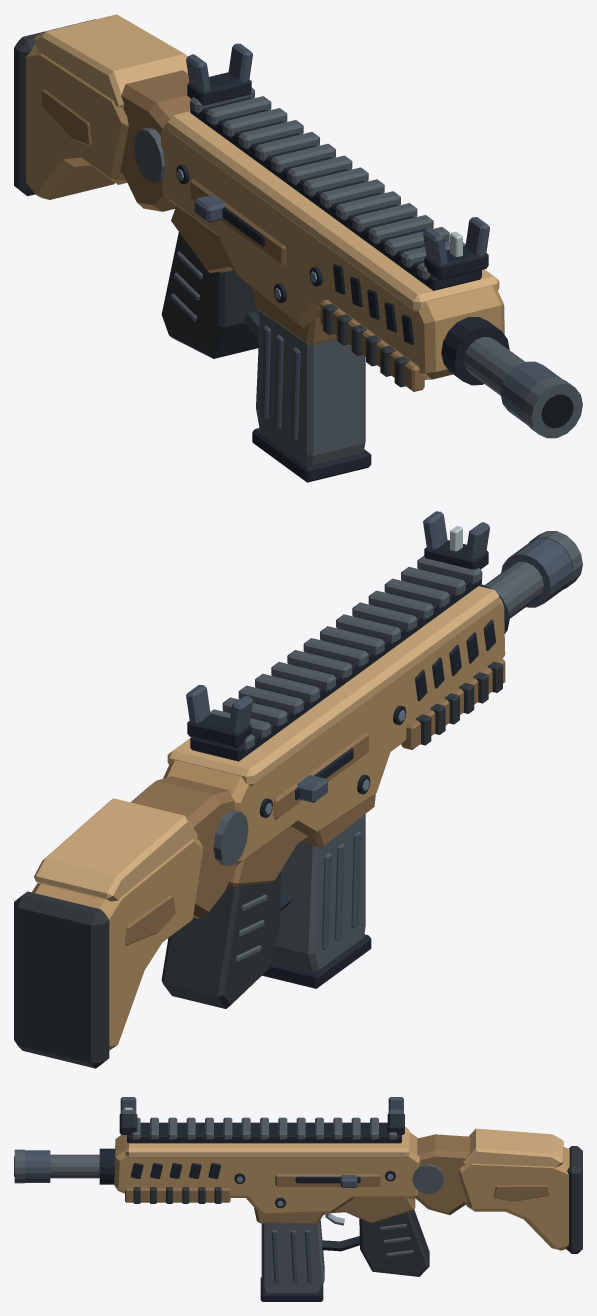
File: SCAR.glb
The picture shows the model from 3 angles, top to bottom: view 1: azimuth 30°, elevation 25°; view 2: azimuth 150°, elevation 25°; view 3: azimuth 270°, elevation 25°; orthographic projection. The views are drawn at different scales.
Visible parts, largest first — view 1: Main, Stock, Magazine; view 2: Main, Stock, Magazine; view 3: Main, Stock, Magazine.
Boxes of the visible parts, box(x1,y1,x2,y2) form: Main: box(160, 43, 582, 438); Stock: box(14, 14, 190, 211); Magazine: box(252, 311, 371, 482); Main: box(161, 511, 582, 1008); Stock: box(14, 776, 248, 1068); Magazine: box(262, 814, 371, 988); Main: box(14, 1097, 429, 1276); Stock: box(412, 1128, 582, 1253); Magazine: box(260, 1220, 324, 1301).
Size of the model in its own units: 0.549 by 1.45 by 3.93.
1 material, 1 textured.
